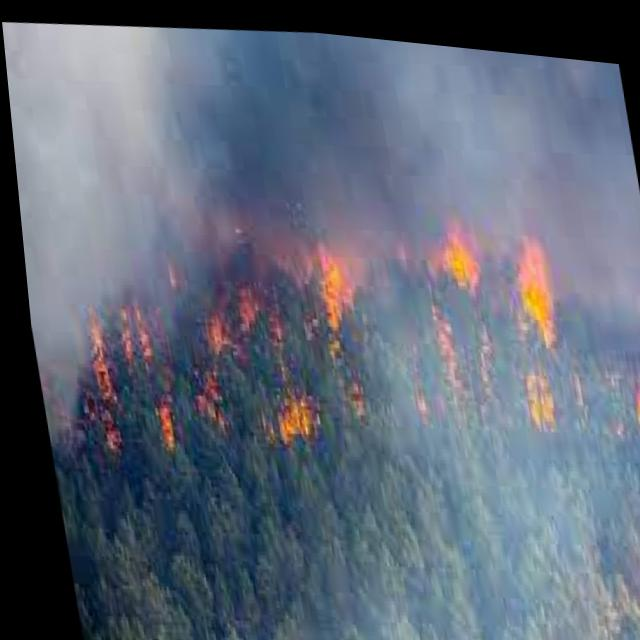Fire: (41, 168, 640, 502)
